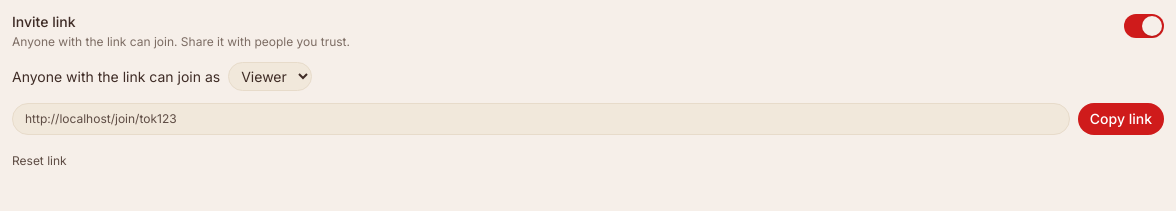
Scenario: JoinLinkControls — on › puts the role back, and says why, when a change is refused
Select "Editor" in the dropdown: [270, 76] box x1=228 y1=62 x2=312 y2=91
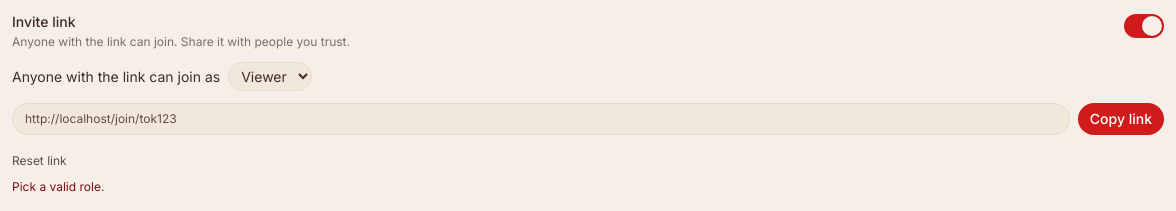
expect the message reads "Pick a valid role.": met, box x1=12 y1=179 x2=104 y2=194
